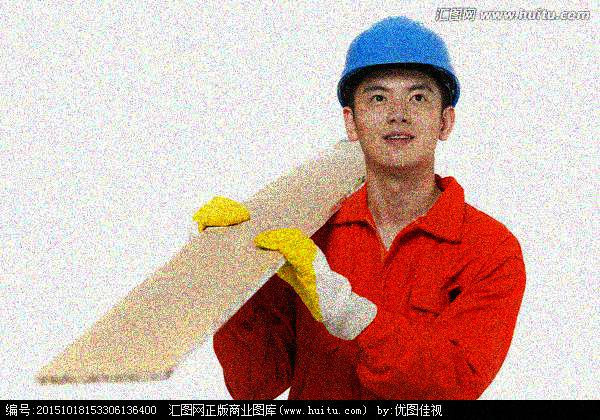helmet: (337, 14, 461, 167)
